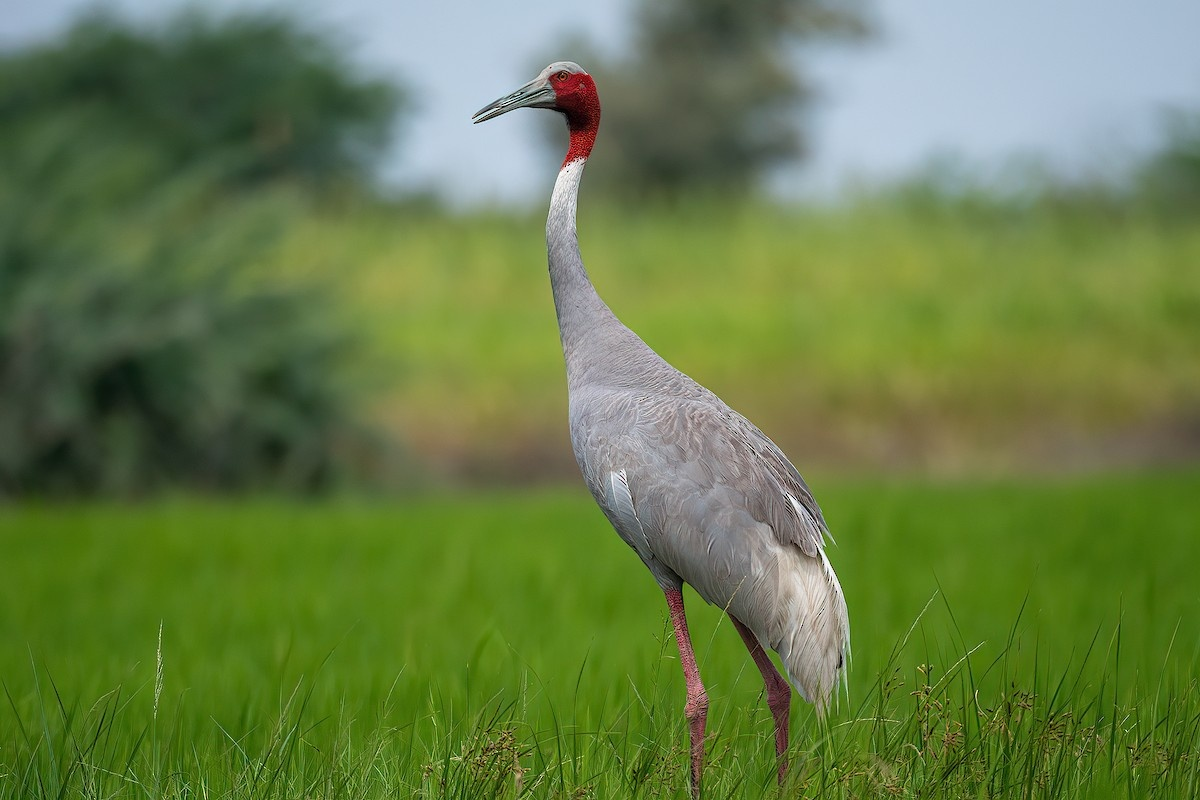crane: (473, 47, 847, 783)
